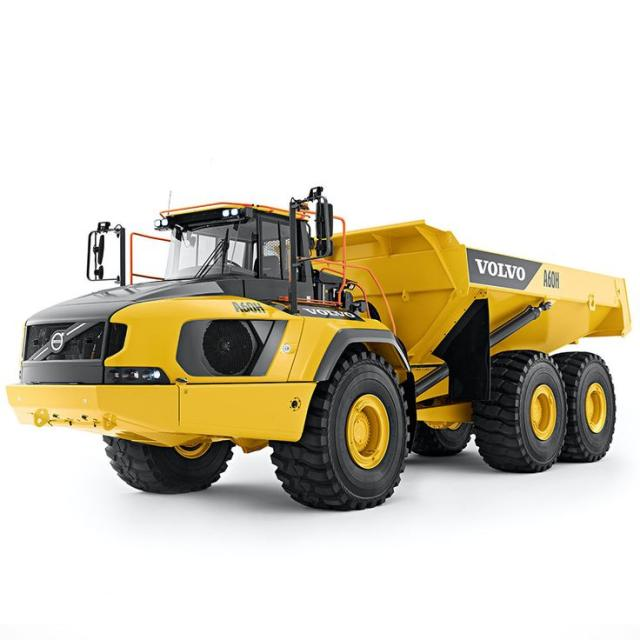dump_truck: (12, 192, 639, 513)
